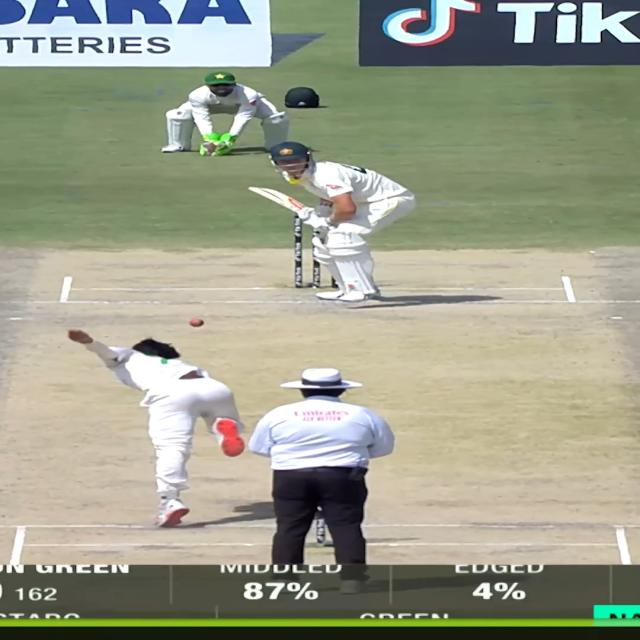Cricket ball: (188, 318, 205, 328)
